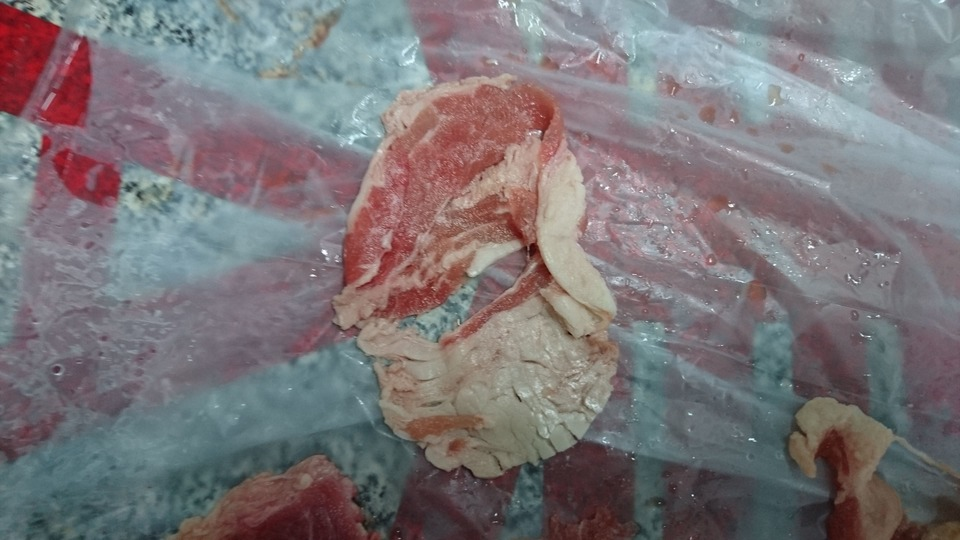restructured meat: (339, 75, 622, 480)
